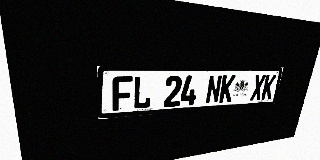2: (164, 76, 183, 107)
4: (180, 75, 198, 106)
F: (112, 76, 133, 111)
K: (219, 75, 236, 103), (261, 75, 277, 100)
L: (132, 76, 152, 110)
N: (205, 75, 222, 104)
X: (250, 75, 266, 101)
